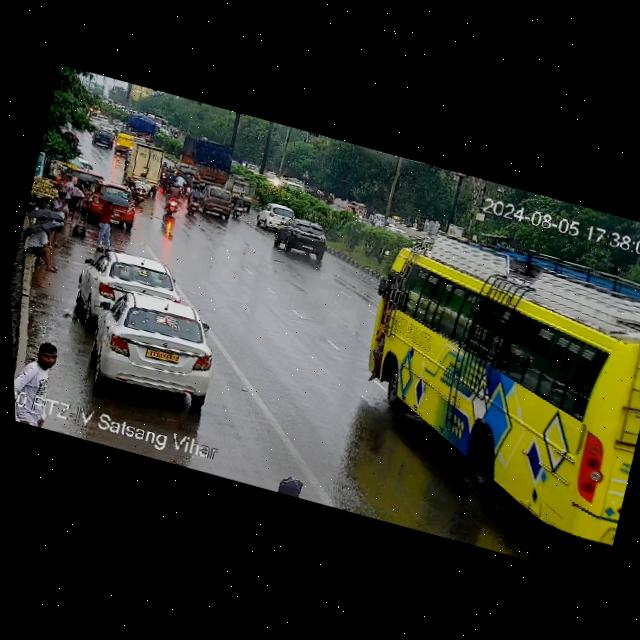bus: (336, 200, 640, 480)
car: (77, 284, 229, 411), (75, 243, 185, 327), (79, 179, 142, 229), (268, 220, 334, 264), (251, 199, 297, 236), (196, 182, 240, 220), (111, 129, 139, 158)
motorcycle: (122, 106, 162, 142), (183, 181, 210, 218), (122, 175, 152, 208), (88, 125, 116, 150), (229, 193, 252, 221), (167, 169, 190, 191)
person: (15, 218, 72, 274), (44, 166, 88, 217), (33, 340, 63, 374)
truck: (110, 133, 175, 208)
